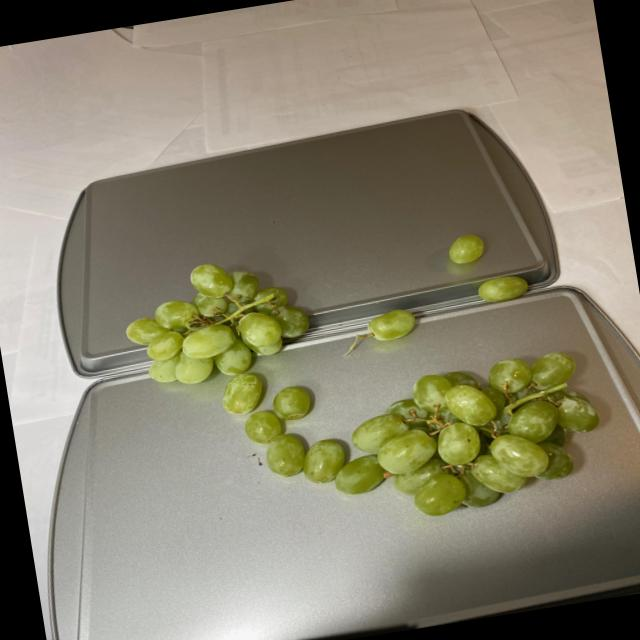grapes: (113, 206, 610, 556)
